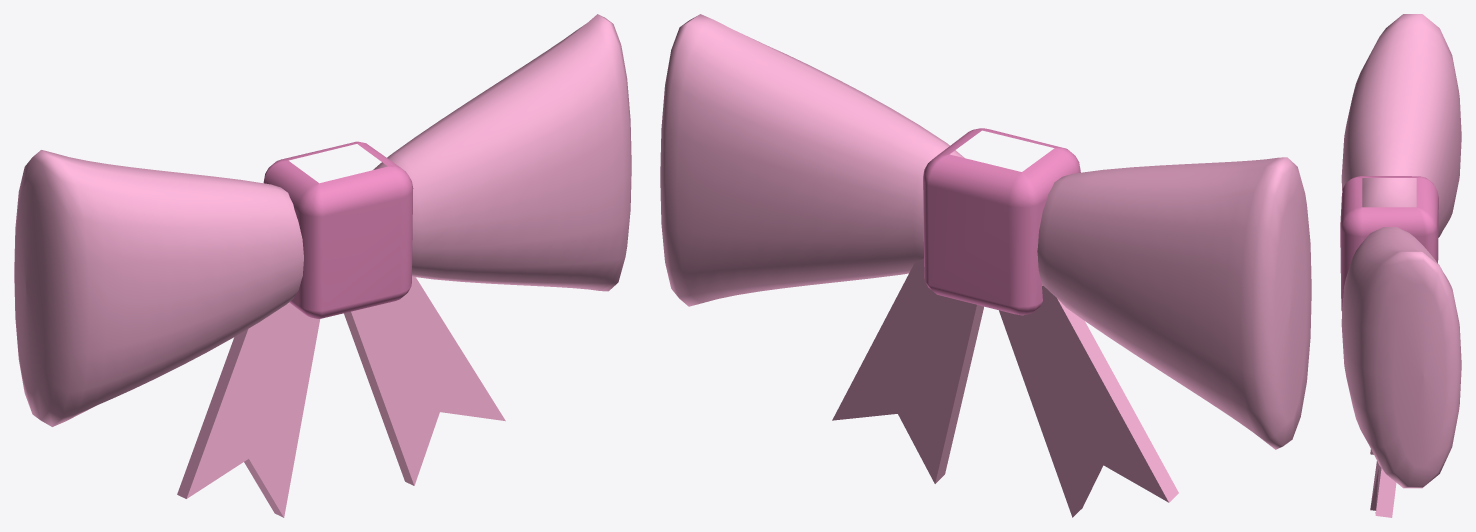
The model's file is laco_rosa.glb.
3 views of the same model, side by side, from view 1: azimuth 30°, elevation 25°; view 2: azimuth 150°, elevation 25°; view 3: azimuth 270°, elevation 25° (orthographic). The views are drawn at different scales.
Parts seen in each view (by area): view 1: Laco_Rosa; view 2: Laco_Rosa; view 3: Laco_Rosa.
Part boxes in pixels (x1,y1,x2,y2): Laco_Rosa: (14, 14, 631, 517); Laco_Rosa: (660, 14, 1311, 517); Laco_Rosa: (1340, 14, 1461, 517).
Size of the model in its own units: 0.78 by 0.5104 by 0.16.
